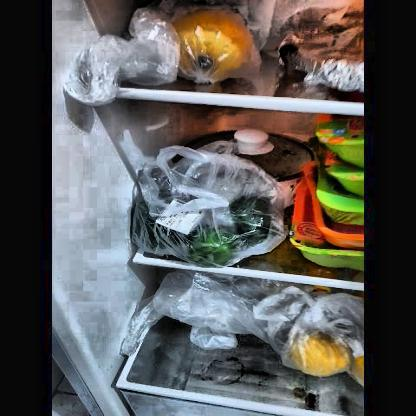lemon: (166, 9, 251, 76), (291, 332, 351, 375)
